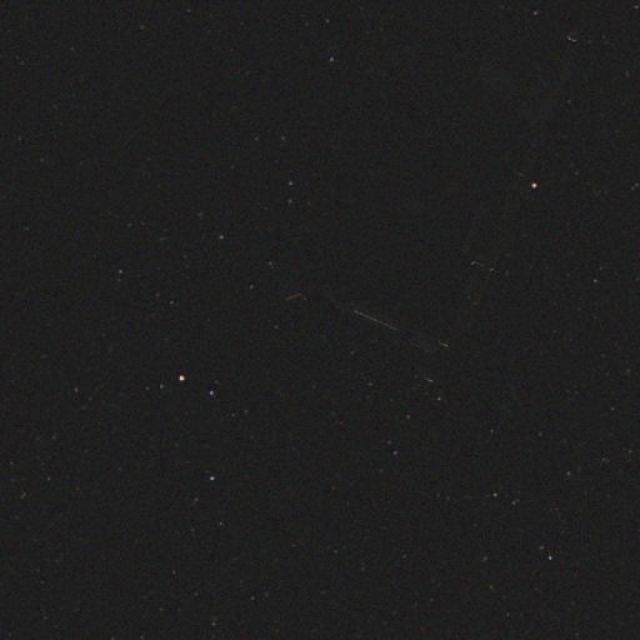proba_2: (240, 0, 610, 321)
